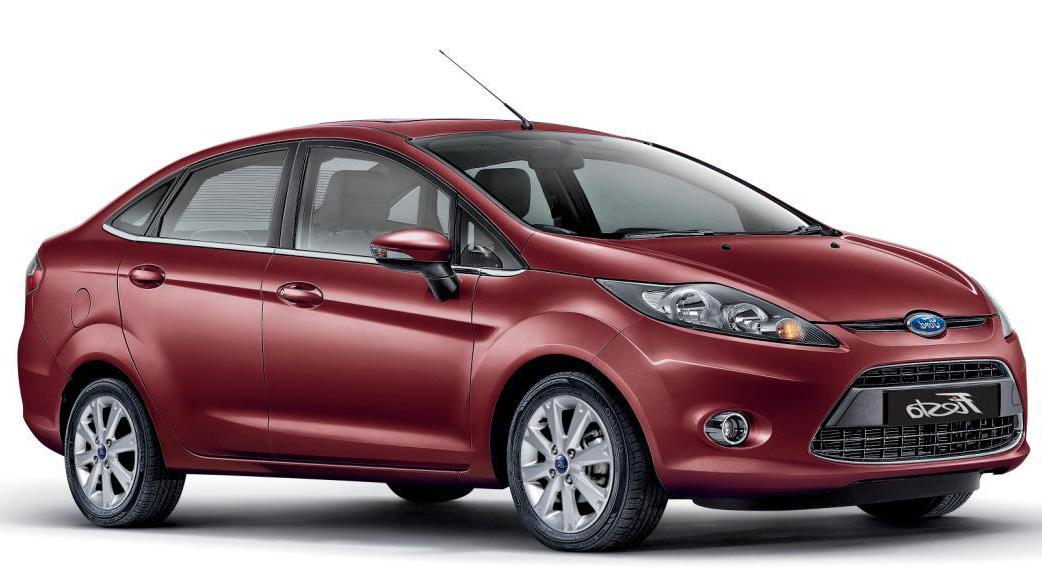Car: (2, 67, 1023, 570)
